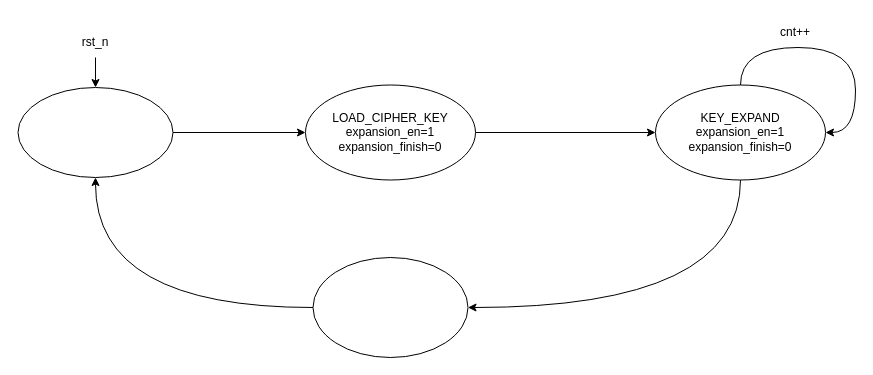
Some shapes in this 873 by 375 pixel diagram are drawn without their labels. The shapes that lost their labels are listed below. From the top down, each one's centre as x and y in pixels, then its label:
At point 95,132: "IDLE expansion_en=0 expansion_finish=0".
At point 390,307: "FINISH expansion_en=1 expansion_finish=1".
